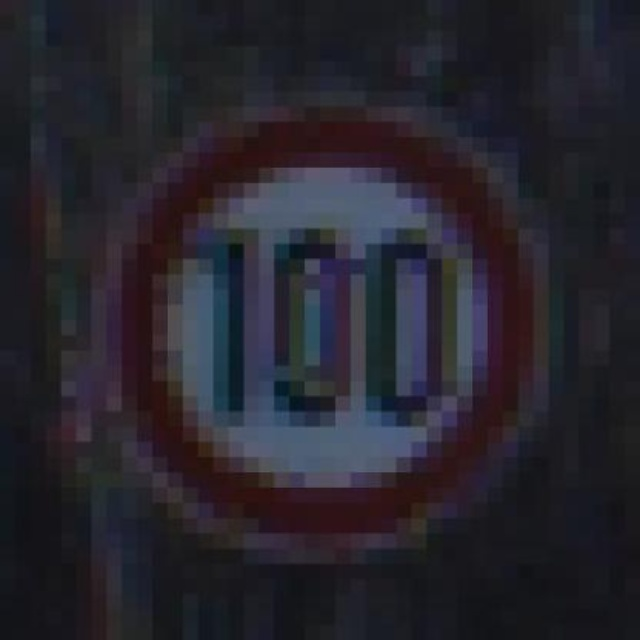Tốc độ tối đa cho phép 100km/h: (125, 96, 537, 538)
